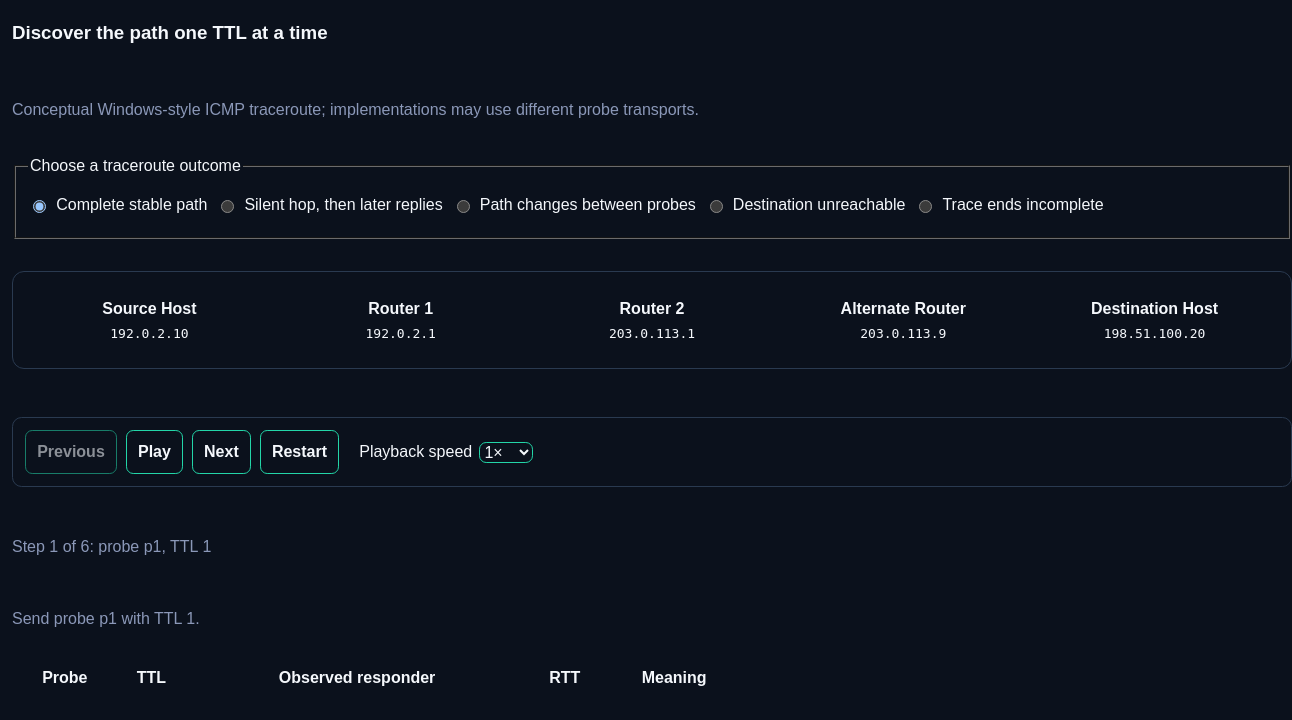
Test: TracerouteDiscoveryPlayer › offers all outcomes and keeps earlier probe evidence in a labelled ledger
Expected: the radio button labelled "Complete stable path" is shown, x1=33 y1=200 x2=46 y2=213
Expected: the radio button labelled "Silent hop, then later replies" is shown, x1=221 y1=200 x2=234 y2=213
Step 1. Click the button "Next" → {"x": 221, "y": 452}, box x1=192 y1=430 x2=251 y2=474
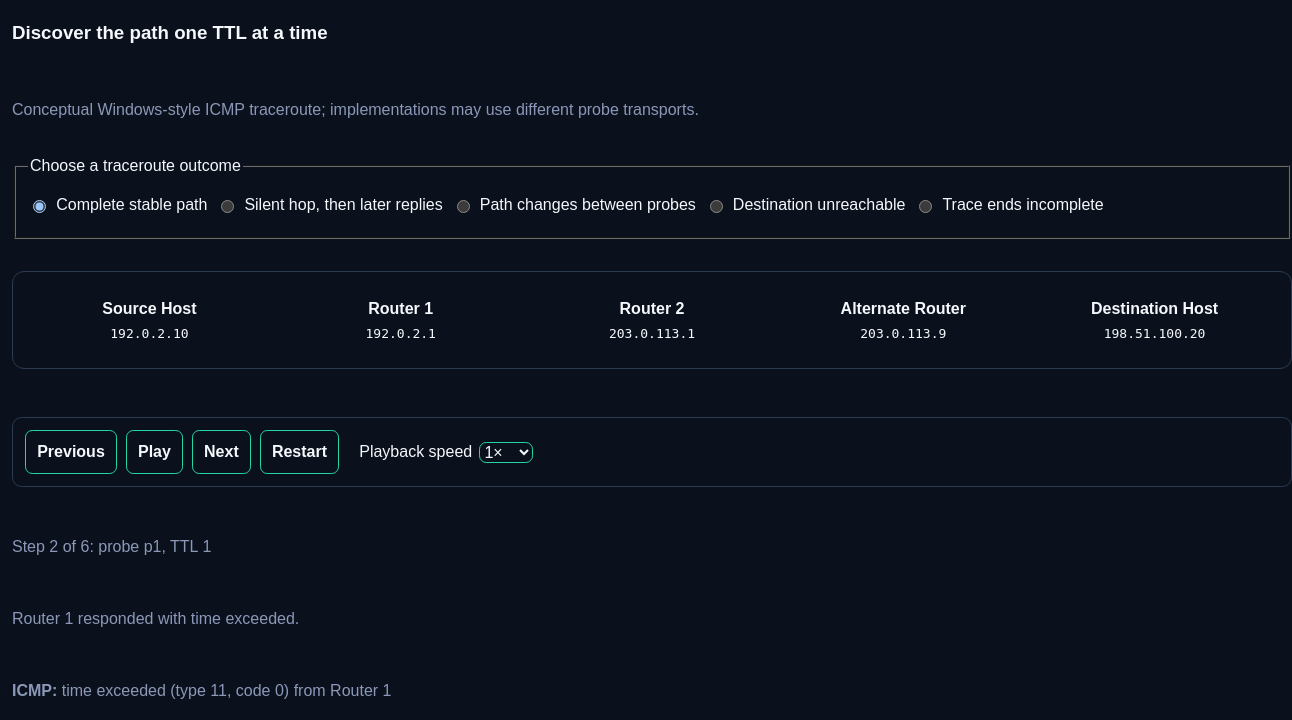
Step 2. Click the button "Next" → {"x": 221, "y": 452}, box x1=192 y1=430 x2=251 y2=474
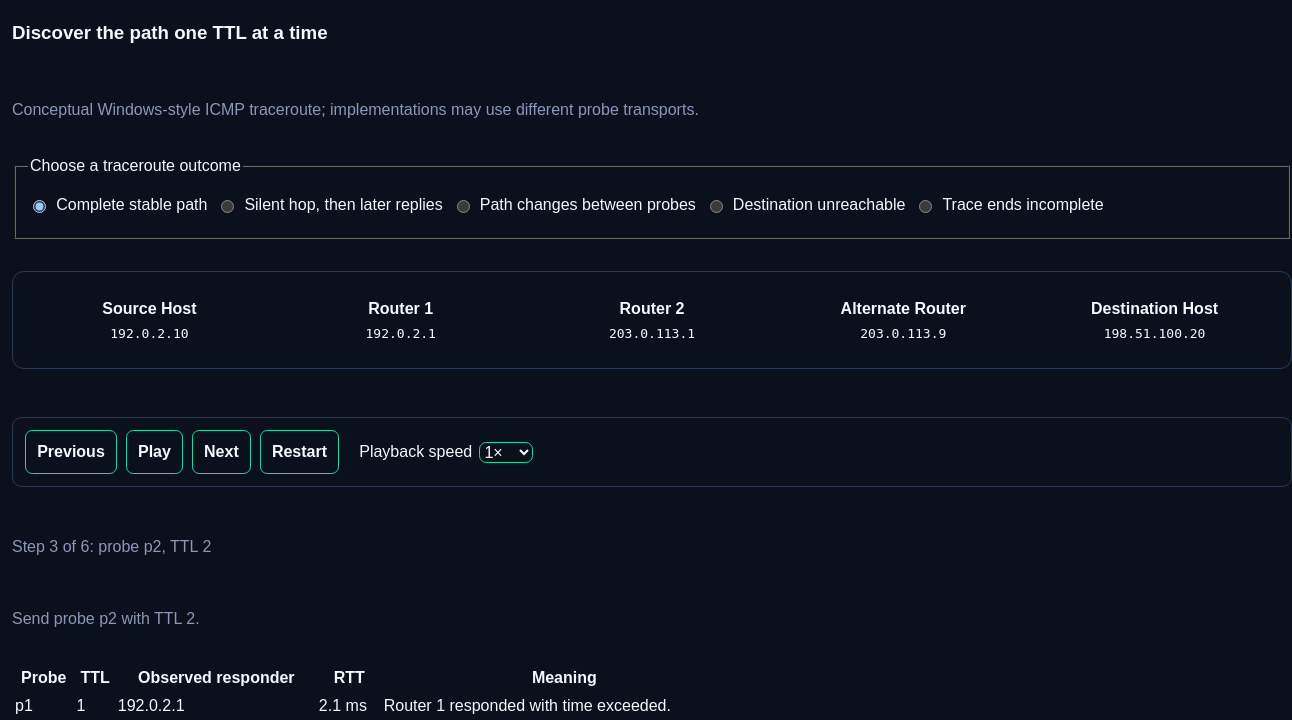
Now the text "192.0.2.1" is shown, box x1=117 y1=693 x2=316 y2=719
Now the message shows "TTL 2", box x1=12 y1=538 x2=211 y2=555
